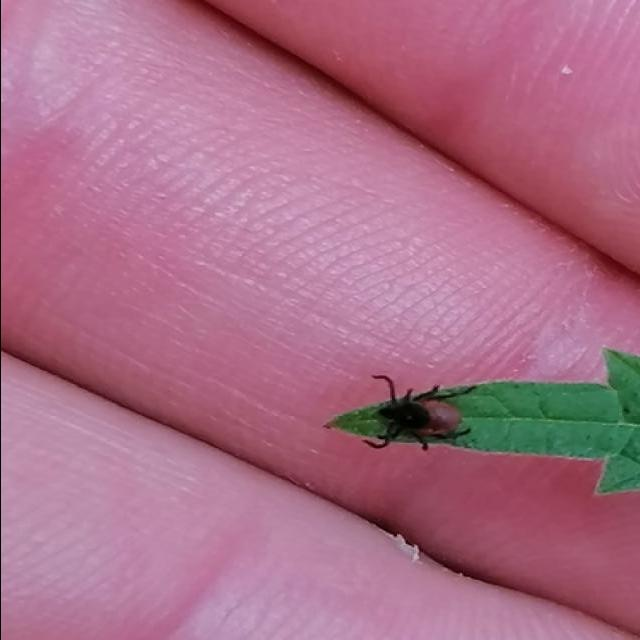Ixodes Ricinus-F: (360, 375, 474, 451)
